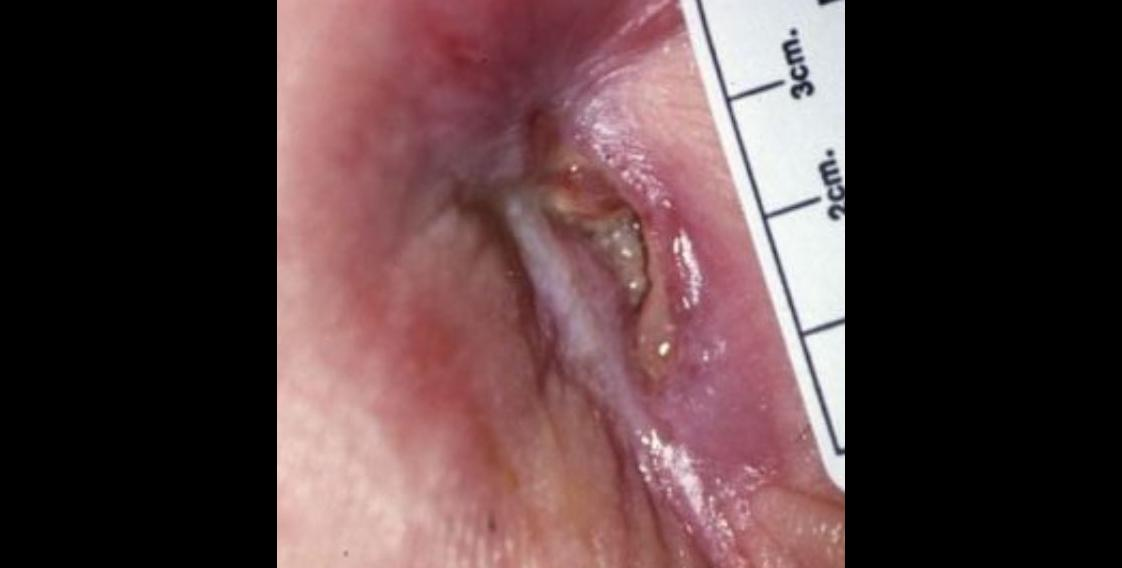Stage4: (360, 44, 739, 517)
